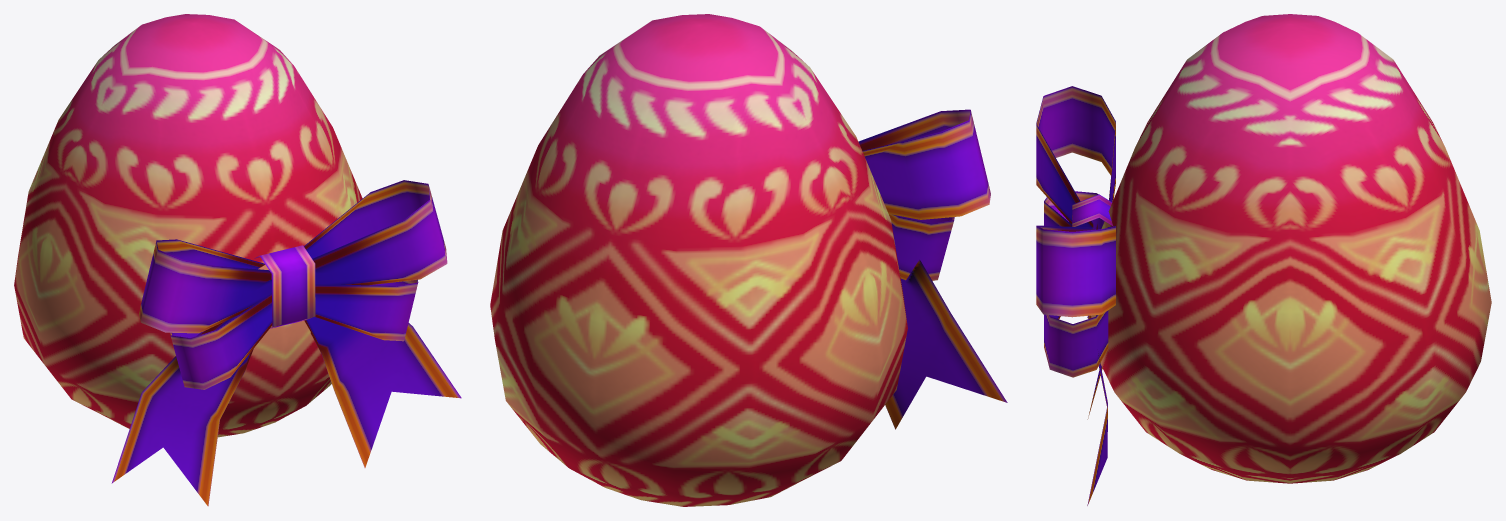
File: Egg_01(HighPoly).FBX
3 renders of one model, left to right at view 1: azimuth 30°, elevation 25°; view 2: azimuth 150°, elevation 25°; view 3: azimuth 270°, elevation 25°, orthographic. The views are drawn at different scales.
Visible parts, largest first — view 1: Egg_01(HighPoly); view 2: Egg_01(HighPoly); view 3: Egg_01(HighPoly).
Boxes of the visible parts, box(x1,y1,x2,y2) form: Egg_01(HighPoly): box(14, 14, 461, 506); Egg_01(HighPoly): box(490, 14, 1007, 506); Egg_01(HighPoly): box(1036, 14, 1491, 505).
Bounding box in the file's own units: 0.5564 × 0.6031 × 0.5665.
